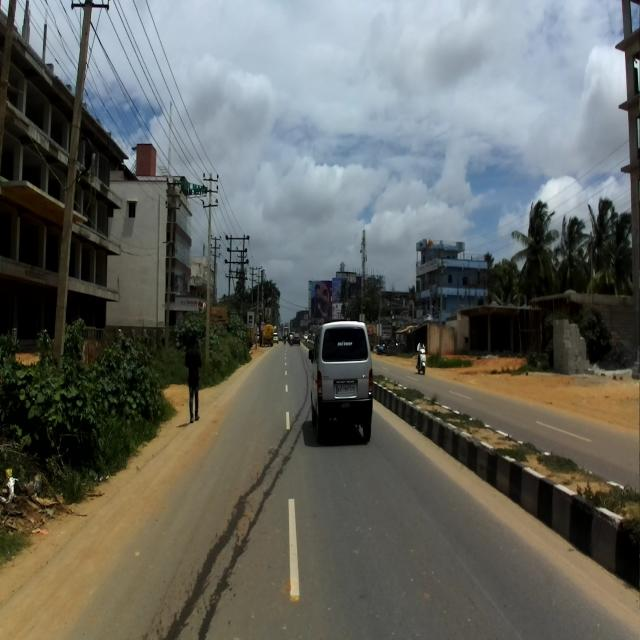car: (309, 319, 373, 444)
